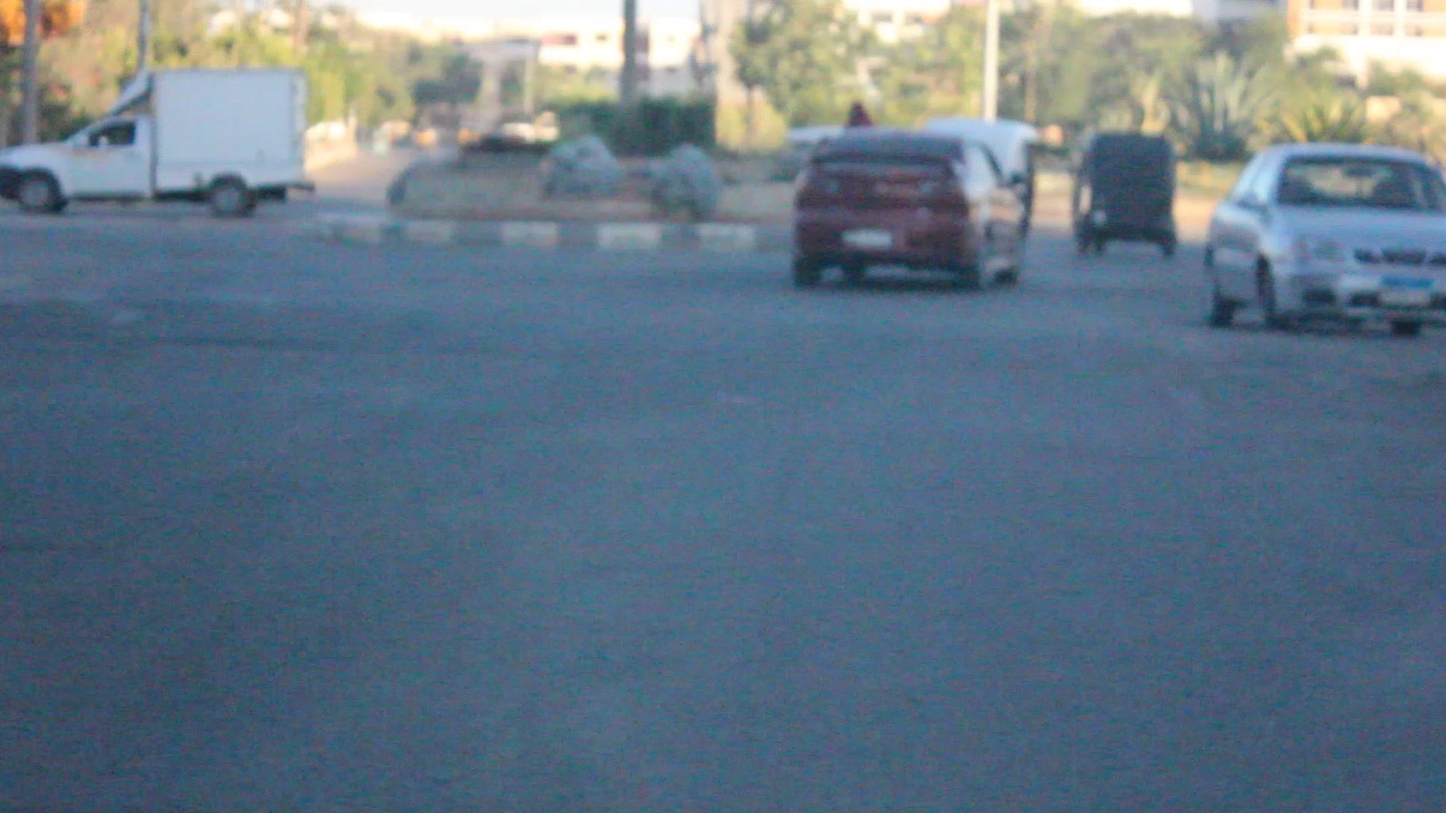Bump: (0, 294, 1445, 399)
